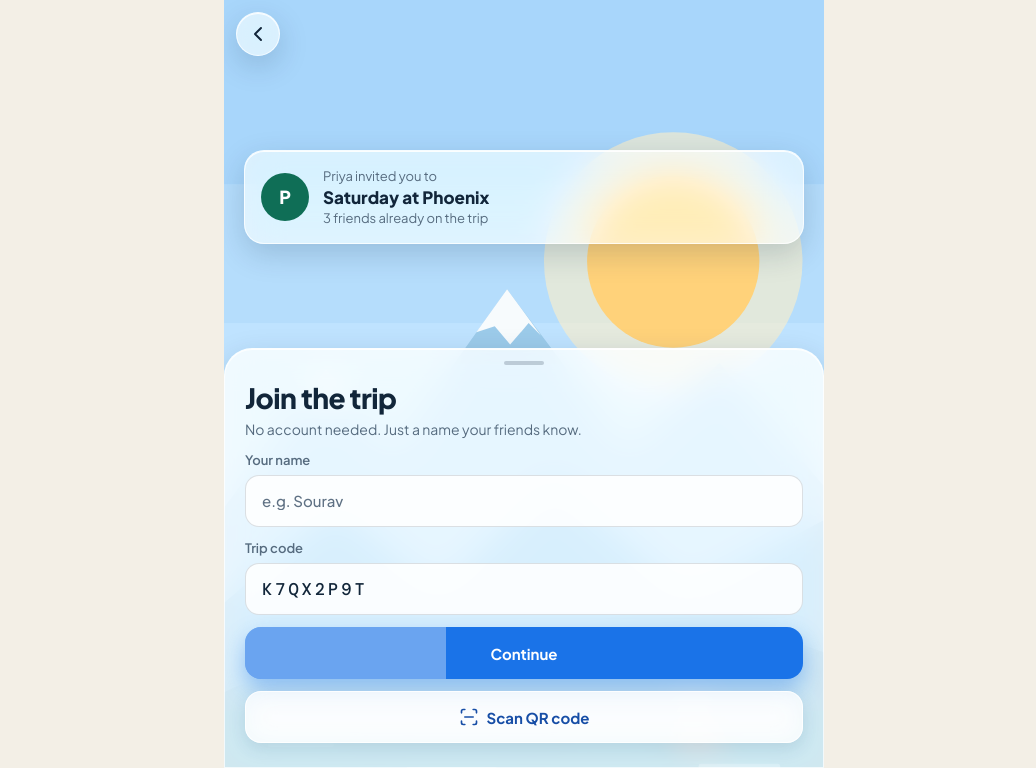
Join screen › goes on to the consent screen with the name
Type "Sourav" into the field labelled "Your name".
click(524, 501); type("Sourav")  # box [245,475,803,527]
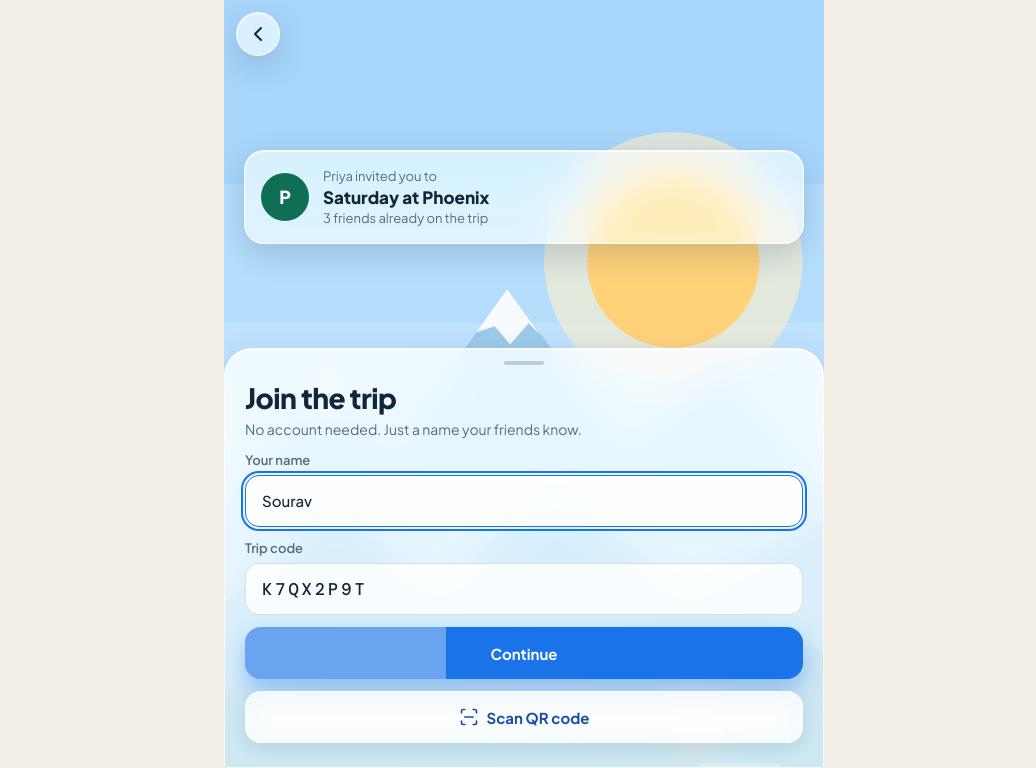
Click the button "Continue".
click(524, 653)  # box [245,627,803,679]
(page scrolled)
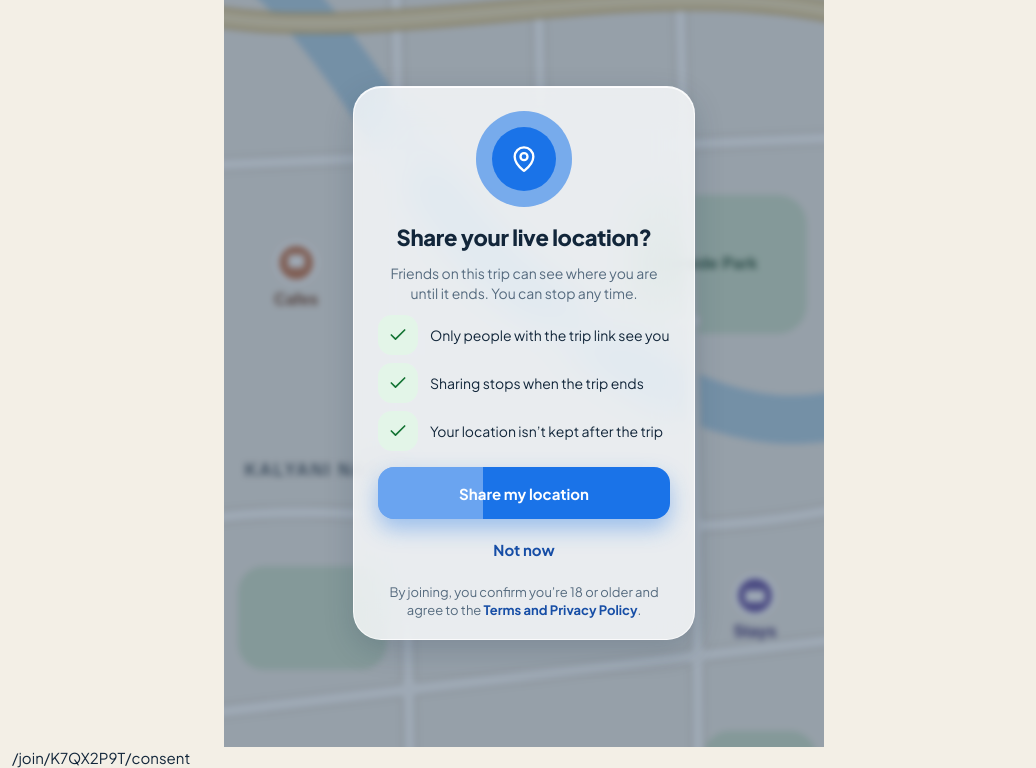
Result: the heading "Share your live location?" is shown at [396,223,652,251]
Result: the text with test id "location" reads "/join/K7QX2P9T/consent" at [12,748,190,767]
